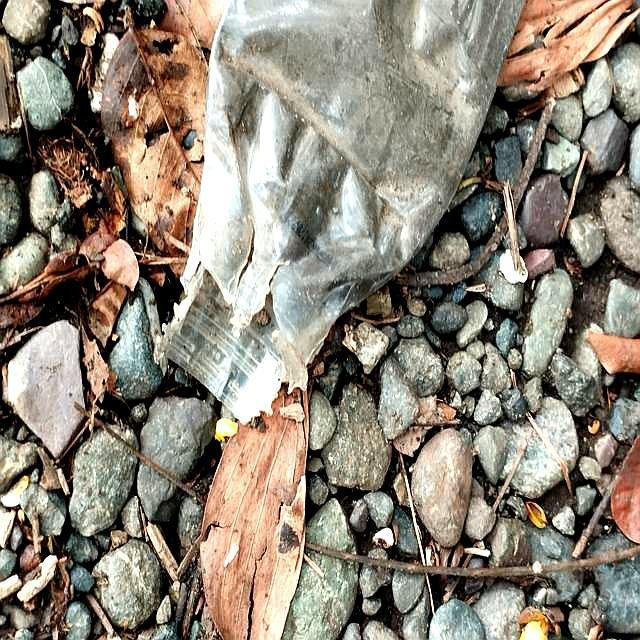Non-biodegradable: (155, 1, 529, 435)
